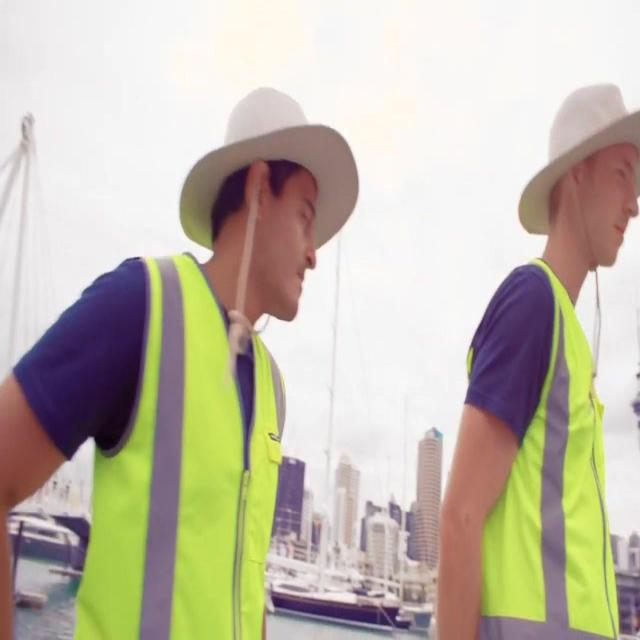Vest: (73, 249, 289, 637), (475, 260, 623, 638)
